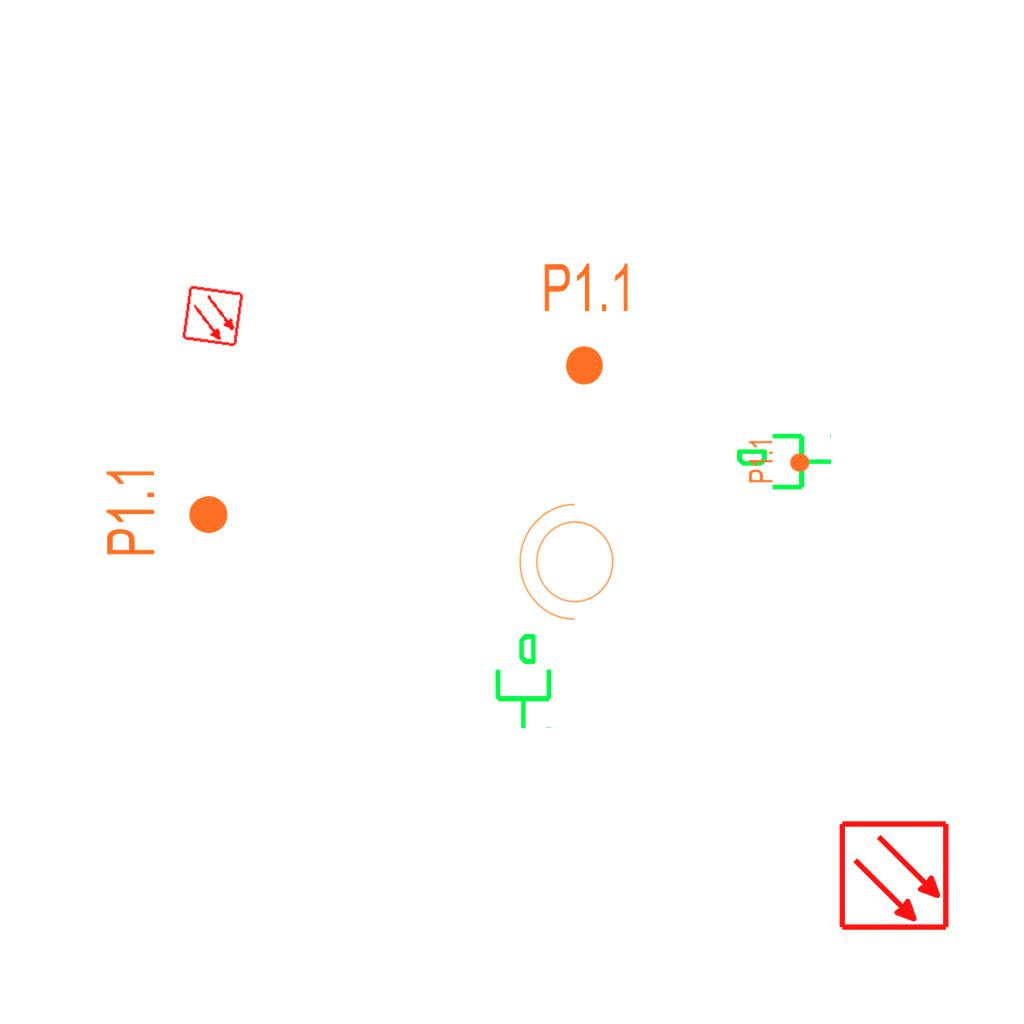Datenanschluss_einfach: (487, 631, 556, 731), (734, 429, 834, 498)
Downlight_LED_Einbauleuchten_Flur: (541, 260, 634, 388), (103, 465, 231, 558), (747, 438, 811, 484)
RMO_Rauchmelder_optischer: (838, 819, 951, 932), (181, 284, 245, 348)
Scheinwerfer_fuer_Alarmbeleuchtung: (514, 499, 626, 631)
